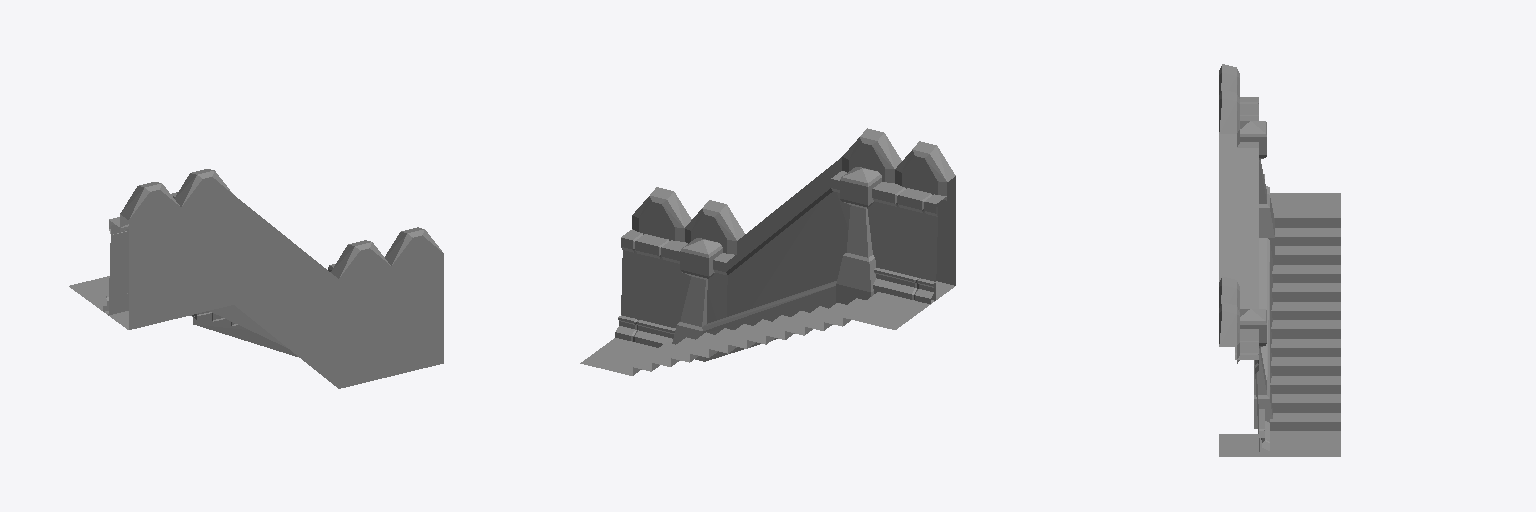
Rendered from Stairs2_Left.obj.
3 renders of one model, left to right at view 1: azimuth 30°, elevation 25°; view 2: azimuth 150°, elevation 25°; view 3: azimuth 270°, elevation 25°, orthographic.
Parts seen in each view (by area): view 1: Palette; view 2: Palette; view 3: Palette.
Part boxes in pixels (bbox=[...]): Palette: bbox=[69, 169, 443, 388]; Palette: bbox=[580, 128, 955, 375]; Palette: bbox=[1219, 64, 1340, 456].
Size of the model in its own units: 18 by 13.5 by 6.